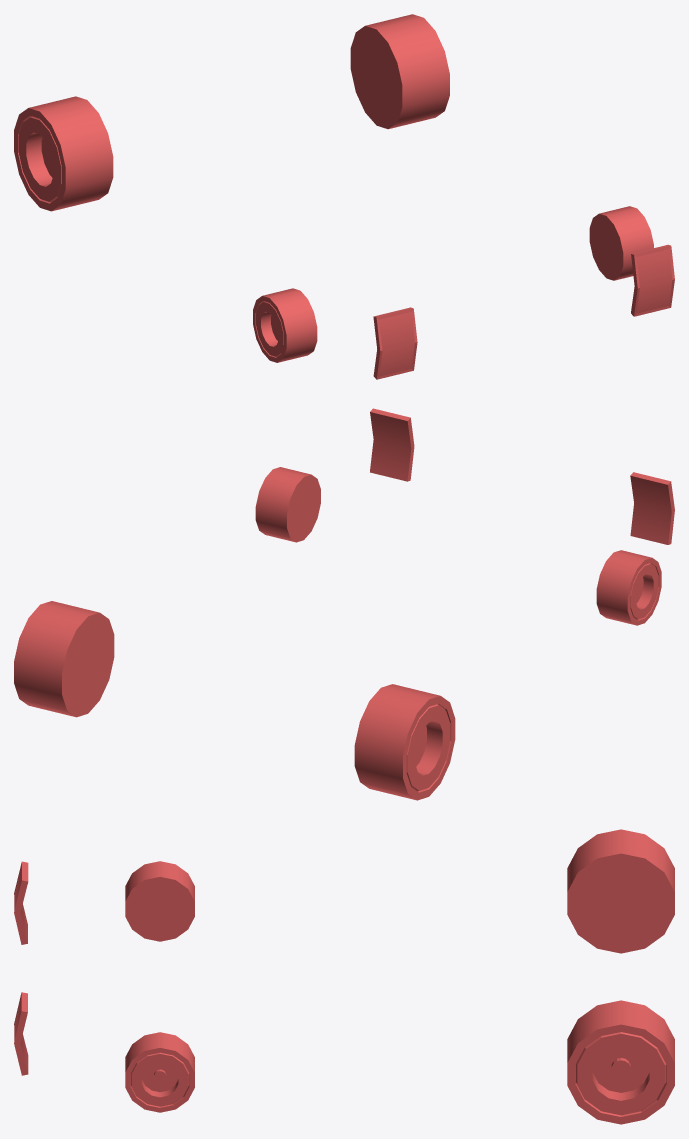
The model's file is Car_CK_Test_wheels.fbx.
3 renders of one model, top to bottom at view 1: azimuth 30°, elevation 25°; view 2: azimuth 150°, elevation 25°; view 3: azimuth 270°, elevation 25°, orthographic. The views are drawn at different scales.
Parts seen in each view (by area): view 1: pCylinder7; view 2: pCylinder7; view 3: pCylinder7.
Boxes of the visible parts, x1=… form: pCylinder7: x1=14, y1=14, x2=674, y2=379; pCylinder7: x1=14, y1=408, x2=674, y2=800; pCylinder7: x1=14, y1=829, x2=674, y2=1124.
Bounding box in the file's own units: 10.31 × 2.47 × 14.76.
